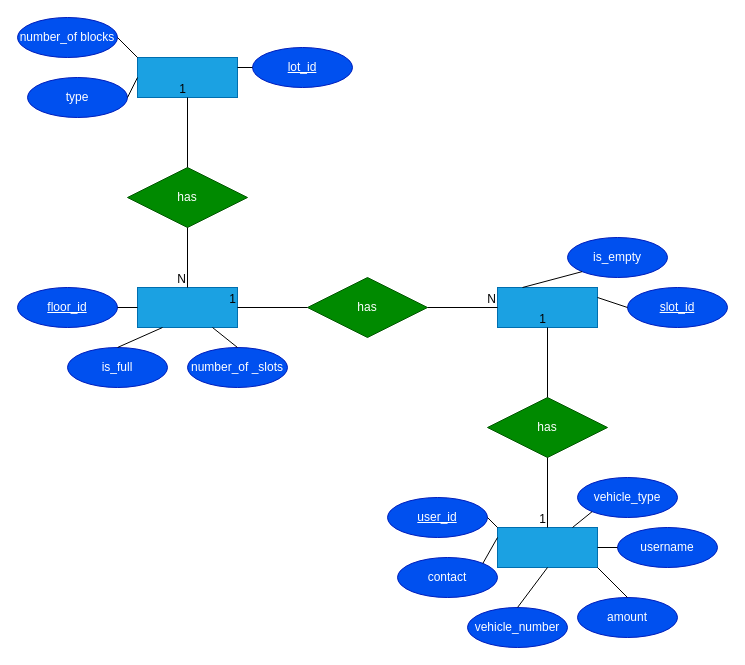
Some shapes in this 745 by 665 pixel diagram are drawn without their labels. The shapes that lost their labels are listed below. From the top down, each one's centre as x and y in pixels, then its label:
At (x=187, y=77): "parking_lot".
At (x=187, y=307): "floor".
At (x=547, y=307): "slot".
At (x=547, y=547): "user".
